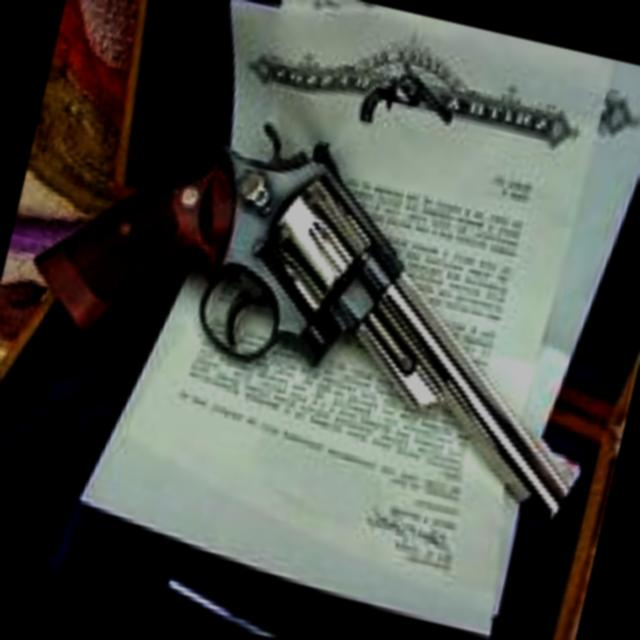revolver: (0, 72, 640, 540)
